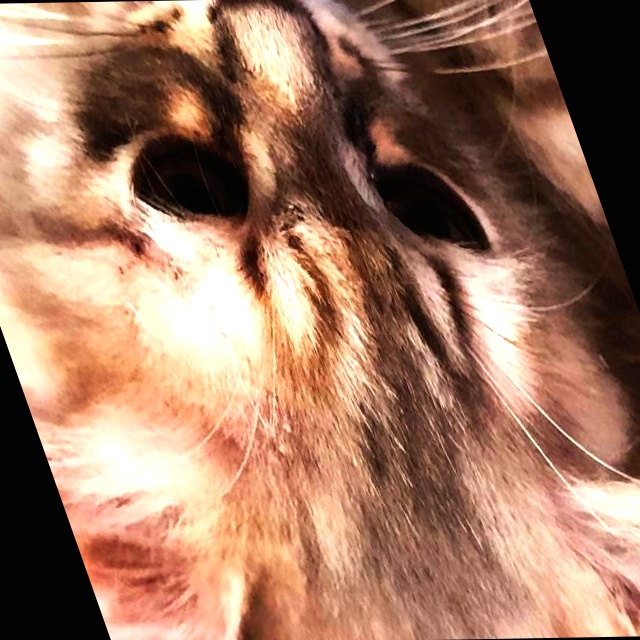hairloss: (144, 235, 271, 348)
